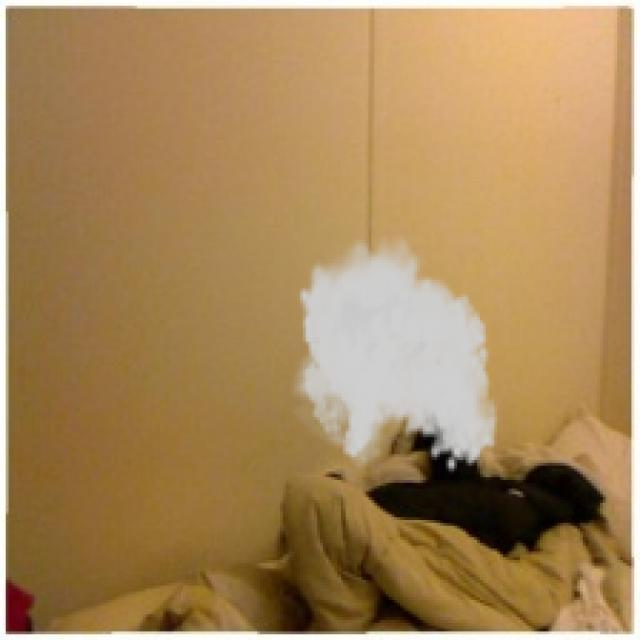Smoke: (286, 228, 500, 474)
